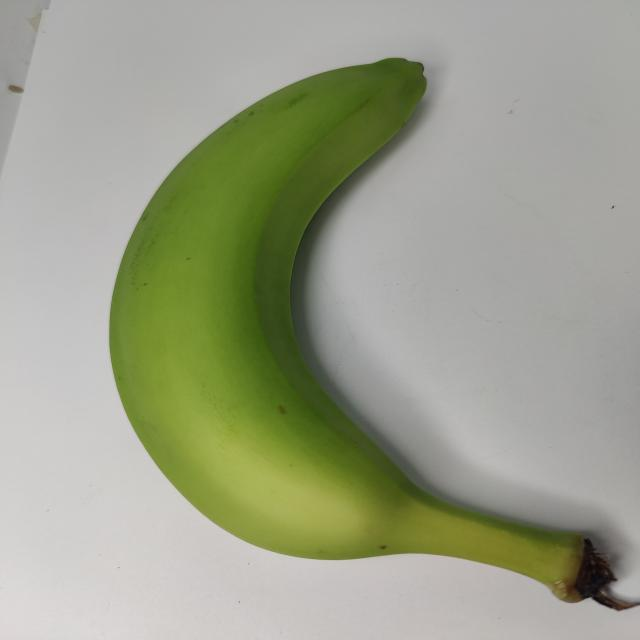raw: (81, 18, 640, 626)
